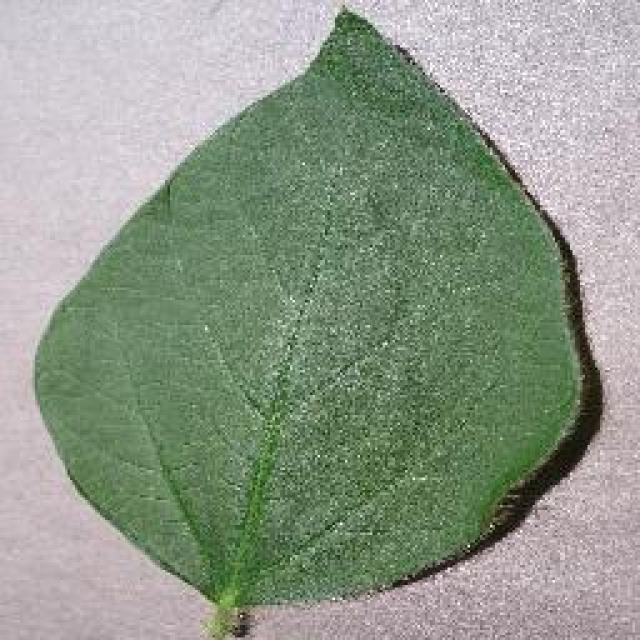Soy_healthy: (60, 76, 590, 581)
